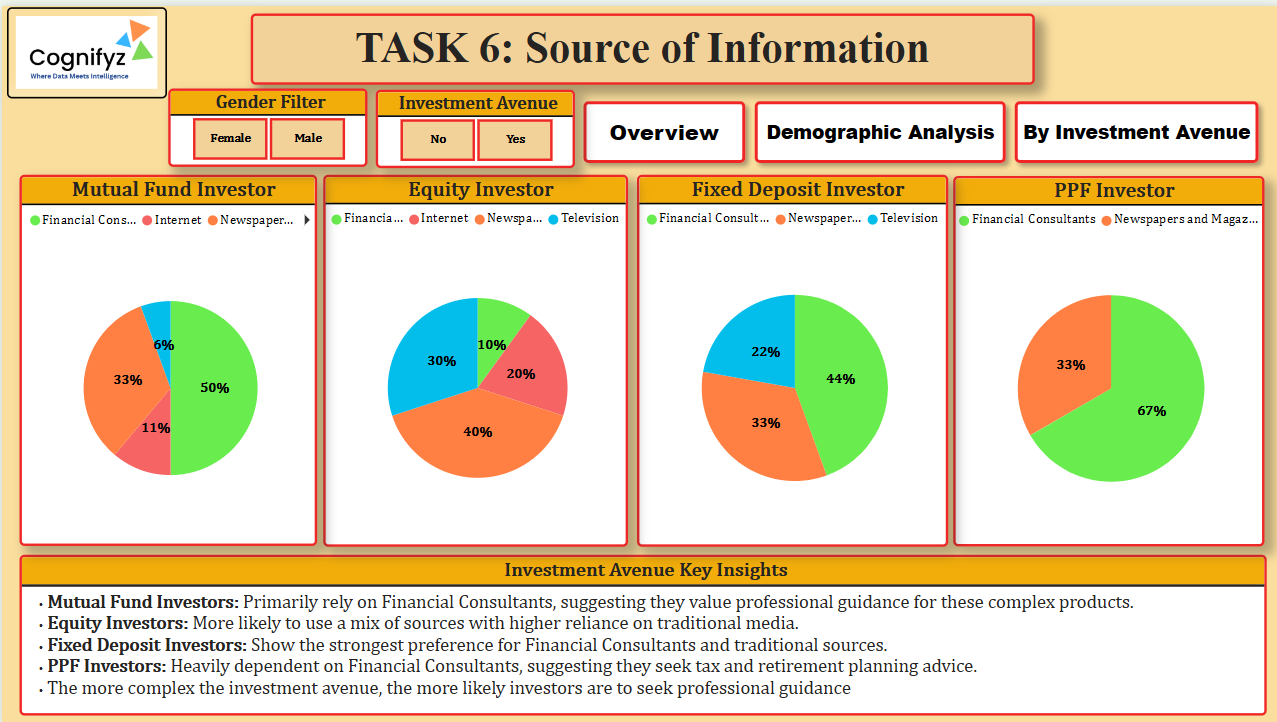

The dashboard page shown, as its layout file describes it:
{"tool":"powerbi","page":{"name":"Task 6","canvas":[1280,720],"ordinal":11},"visuals":[{"type":"image","title":"logo","box":[5,1.2,160,91],"z":0},{"type":"textbox","title":"title","box":[248.5,7.2,784.2,71.2],"z":1000},{"type":"actionButton","title":"Overview","box":[573.1,86.9,179.8,79.6],"z":5000},{"type":"actionButton","title":"Demographic Analysis","box":[743.2,86.9,269,79.6],"z":9000},{"type":"textbox","title":"Investment Avenue Key Insights","box":[18.1,548.9,1247.5,160.5],"z":10000},{"type":"pieChart","title":"PPF Investor","fields":{"Category":["Data_set 2.Source"],"Y":["CountNonNull(Data_set 2.Avenue)"]},"box":[951.6,170.1,311.5,370.5],"z":11000},{"type":"pieChart","title":"Fixed Deposit Investor","fields":{"Category":["Data_set 2.Source"],"Y":["CountNonNull(Data_set 2.gender)"]},"box":[634.7,168.7,311.5,371.9],"z":12000},{"type":"pieChart","title":"Equity Investor","fields":{"Category":["Data_set 2.Source"],"Y":["CountNonNull(Data_set 2.Avenue)"]},"box":[321.8,168.7,304.6,371.9],"z":13000},{"type":"pieChart","title":"Mutual Fund Investor","fields":{"Y":["CountNonNull(Data_set 2.Avenue)"],"Series":["Data_set 2.Source"]},"box":[17.2,168.6,298,371.6],"z":14000},{"type":"actionButton","title":"Investment Avenue","box":[1003.8,86.9,261.8,79.6],"z":15000},{"type":"slicer","title":"Gender Filter","fields":{"Values":["Data_set 2.gender"]},"box":[166.5,83,199.1,78.4],"z":16000},{"type":"slicer","title":"Investment Avenue","fields":{"Values":["Data_set 2.Investment_Avenues"]},"box":[374,84.3,199.1,78.4],"z":17000}]}

Visuals, with their boxes in screenshot pixels (x1, y1, x2, y2), scaled from the page's 1280x720 canvas onto the 1277x722 screenshot:
"logo" image: (left=5, top=1, right=165, bottom=92)
"title" textbox: (left=248, top=7, right=1030, bottom=79)
"Overview" actionButton: (left=572, top=87, right=751, bottom=167)
"Demographic Analysis" actionButton: (left=741, top=87, right=1010, bottom=167)
"Investment Avenue Key Insights" textbox: (left=18, top=550, right=1263, bottom=711)
"PPF Investor" pieChart: (left=949, top=171, right=1260, bottom=542)
"Fixed Deposit Investor" pieChart: (left=633, top=169, right=944, bottom=542)
"Equity Investor" pieChart: (left=321, top=169, right=625, bottom=542)
"Mutual Fund Investor" pieChart: (left=17, top=169, right=314, bottom=542)
"Investment Avenue" actionButton: (left=1001, top=87, right=1263, bottom=167)
"Gender Filter" slicer: (left=166, top=83, right=365, bottom=162)
"Investment Avenue" slicer: (left=373, top=85, right=572, bottom=163)
